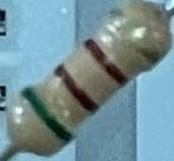Brown: (78, 36, 135, 89), (50, 61, 102, 116)
Green: (20, 84, 76, 144)
Side-Silver: (103, 6, 171, 68)
